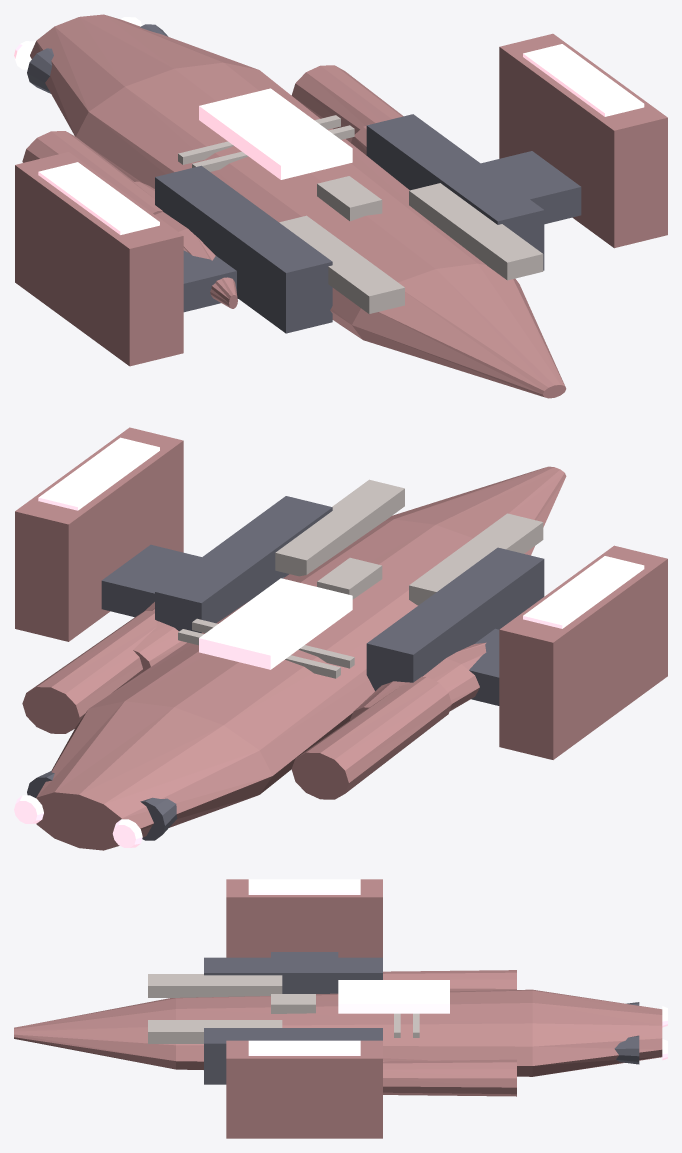
3 renders of one model, top to bottom at view 1: azimuth 30°, elevation 25°; view 2: azimuth 150°, elevation 25°; view 3: azimuth 270°, elevation 25°, orthographic. The views are drawn at different scales.
Bounding box in the file's own units: 6.9 × 1.74 × 10.65.
